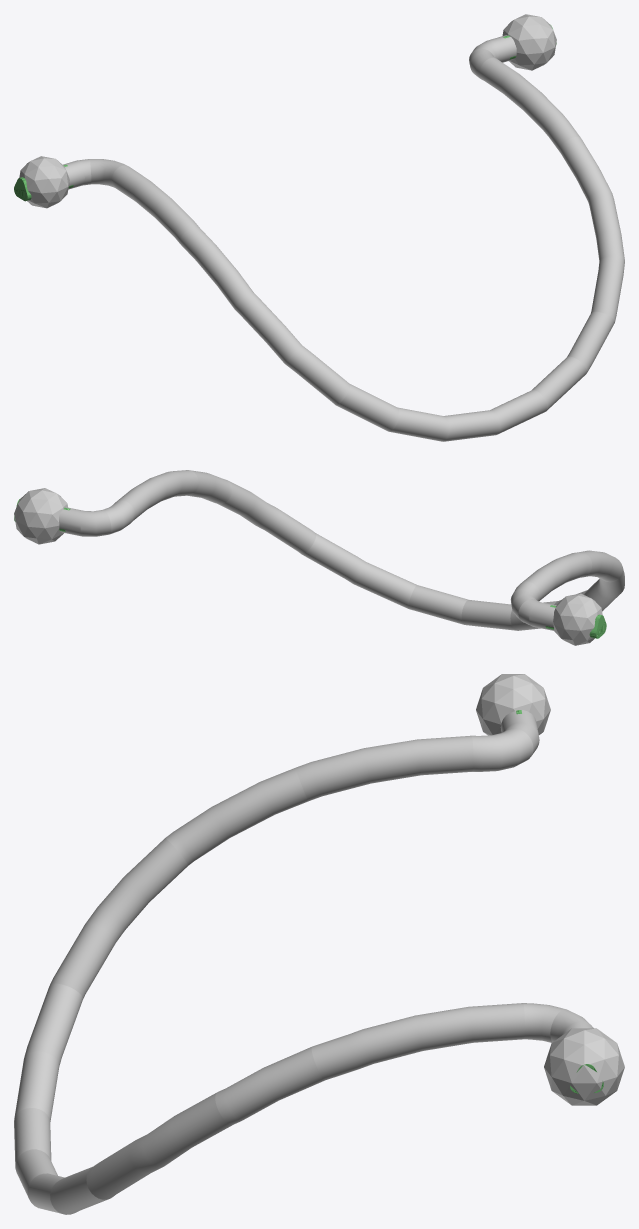
The model's file is original-14.obj.
3 views of the same model, one above another, from view 1: azimuth 30°, elevation 25°; view 2: azimuth 150°, elevation 25°; view 3: azimuth 270°, elevation 25° (orthographic). The views are drawn at different scales.
Visible parts, largest first — view 1: group_2/ID109#ID109.009, group_2/ID109#ID109.010, group_2/ID109#ID109.006, group_2/ID109#ID109.007, group_2/ID109#ID109.003, Icosphere.001, Icosphere, group_2/ID109#ID109.008, group_2/ID109#ID109.011, group_2/ID109#ID109.012, group_2/ID109#ID109.013, group_2/ID109#ID109.014 (+5 smaller); view 2: group_2/ID109#ID109.010, Icosphere.001, group_2/ID109#ID109.006, Icosphere, group_2/ID109#ID109.003, group_2/ID109#ID109.014, group_2/ID109#ID109.012, group_2/ID109#ID109.015, group_2/ID109#ID109.004, group_2/ID109#ID109, group_2/ID109#ID109.008, group_2/ID109#ID109.001 (+6 smaller); view 3: group_2/ID109#ID109.006, group_2/ID109#ID109.009, group_2/ID109#ID109.003, group_2/ID109#ID109.010, group_2/ID109#ID109.007, Icosphere.001, group_2/ID109#ID109.008, Icosphere, group_2/ID109#ID109.011, group_2/ID109#ID109.013, group_2/ID109#ID109.002, group_2/ID109#ID109 (+6 smaller).
Boxes of the visible parts, left/top/right/bottom form: group_2/ID109#ID109.009: left=240, top=297, right=350, bottom=405; group_2/ID109#ID109.010: left=589, top=196, right=624, bottom=321; group_2/ID109#ID109.006: left=480, top=57, right=580, bottom=151; group_2/ID109#ID109.007: left=180, top=226, right=257, bottom=314; group_2/ID109#ID109.003: left=112, top=165, right=199, bottom=243; Icosphere.001: left=502, top=14, right=556, bottom=70; Icosphere: left=19, top=156, right=69, bottom=208; group_2/ID109#ID109.008: left=560, top=137, right=613, bottom=204; group_2/ID109#ID109.011: left=336, top=384, right=399, bottom=431; group_2/ID109#ID109.012: left=567, top=311, right=614, bottom=372; group_2/ID109#ID109.013: left=389, top=407, right=449, bottom=441; group_2/ID109#ID109.014: left=532, top=356, right=587, bottom=411; group_2/ID109#ID109.010: left=218, top=481, right=316, bottom=554; Icosphere.001: left=14, top=488, right=67, bottom=544; group_2/ID109#ID109.006: left=117, top=470, right=198, bottom=520; Icosphere: left=553, top=593, right=602, bottom=645; group_2/ID109#ID109.003: left=522, top=552, right=592, bottom=600; group_2/ID109#ID109.014: left=353, top=562, right=416, bottom=608; group_2/ID109#ID109.012: left=302, top=533, right=365, bottom=583; group_2/ID109#ID109.015: left=408, top=585, right=468, bottom=624; group_2/ID109#ID109.004: left=59, top=507, right=111, bottom=536; group_2/ID109#ID109: left=461, top=600, right=515, bottom=630; group_2/ID109#ID109.008: left=188, top=470, right=232, bottom=504; group_2/ID109#ID109.001: left=518, top=599, right=556, bottom=630; group_2/ID109#ID109.006: left=311, top=1003, right=524, bottom=1080; group_2/ID109#ID109.009: left=50, top=838, right=188, bottom=998; group_2/ID109#ID109.003: left=296, top=735, right=473, bottom=801; group_2/ID109#ID109.010: left=86, top=1092, right=232, bottom=1199; group_2/ID109#ID109.007: left=165, top=768, right=308, bottom=865; Icosphere.001: left=544, top=1028, right=624, bottom=1105; group_2/ID109#ID109.008: left=215, top=1047, right=324, bottom=1124; Icosphere: left=476, top=674, right=550, bottom=735; group_2/ID109#ID109.011: left=24, top=983, right=82, bottom=1065; group_2/ID109#ID109.013: left=14, top=1051, right=59, bottom=1121; group_2/ID109#ID109.002: left=472, top=728, right=533, bottom=771; group_2/ID109#ID109: left=14, top=1108, right=51, bottom=1165.
Size of the model in its own units: 1.49 by 0.564 by 0.9982.
